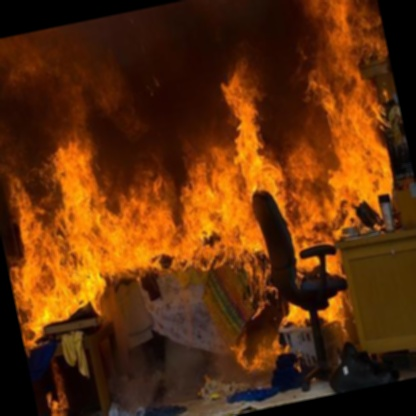fire: (0, 0, 416, 411)
